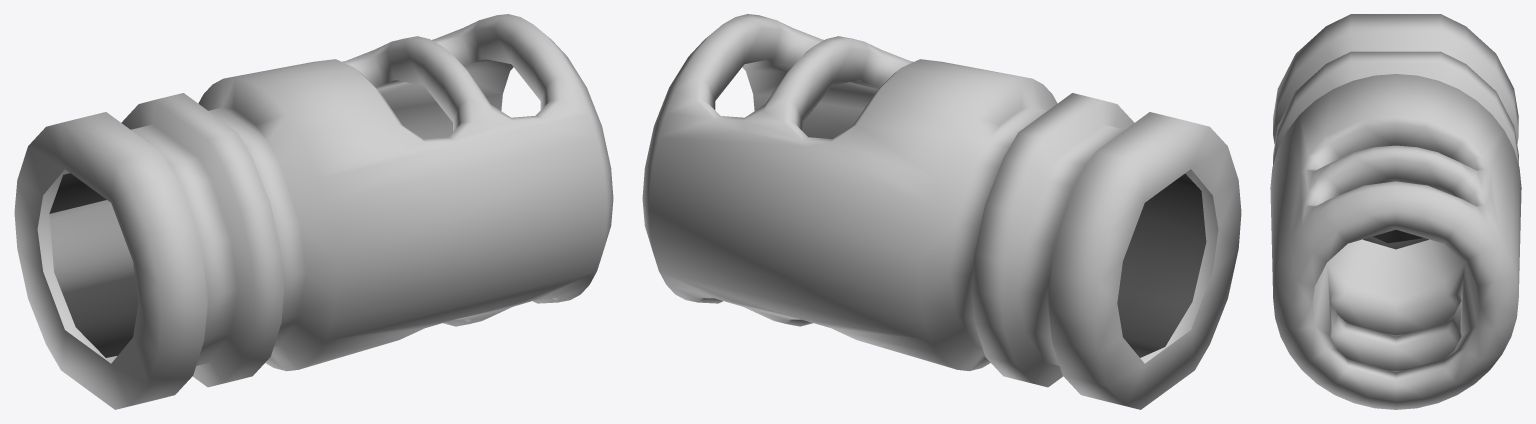
Rendered from ARDefaultMuzzleBrake.fbx.
The picture shows the model from 3 angles, left to right: view 1: azimuth 30°, elevation 25°; view 2: azimuth 150°, elevation 25°; view 3: azimuth 270°, elevation 25°; orthographic projection. The views are drawn at different scales.
Parts seen in each view (by area): view 1: default_Muzzle_and_Cover; view 2: default_Muzzle_and_Cover; view 3: default_Muzzle_and_Cover.
Boxes of the visible parts, box(x1,y1,x2,y2) form: default_Muzzle_and_Cover: box(14, 14, 613, 409); default_Muzzle_and_Cover: box(642, 14, 1241, 409); default_Muzzle_and_Cover: box(1270, 14, 1521, 409).
Size of the model in its own units: 5.22 by 2.93 by 2.93.
